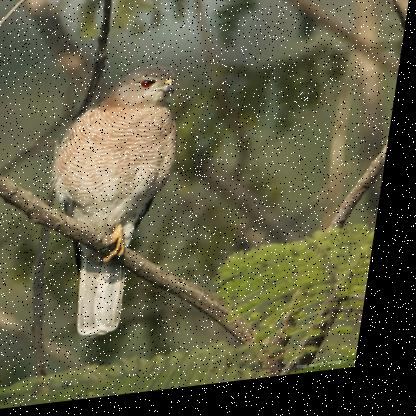Burung: (38, 66, 194, 348)
